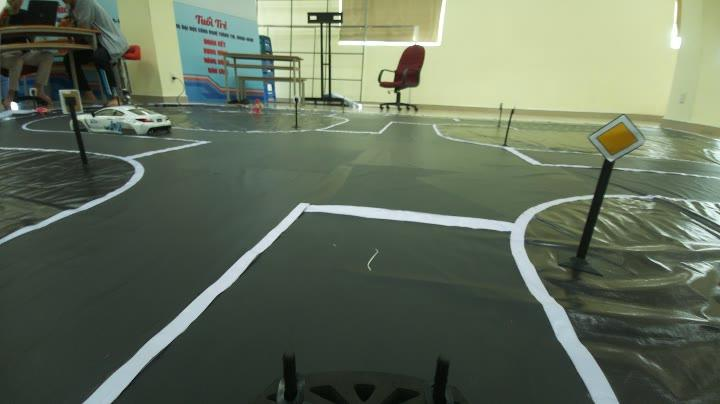priority: (578, 115, 652, 168)
